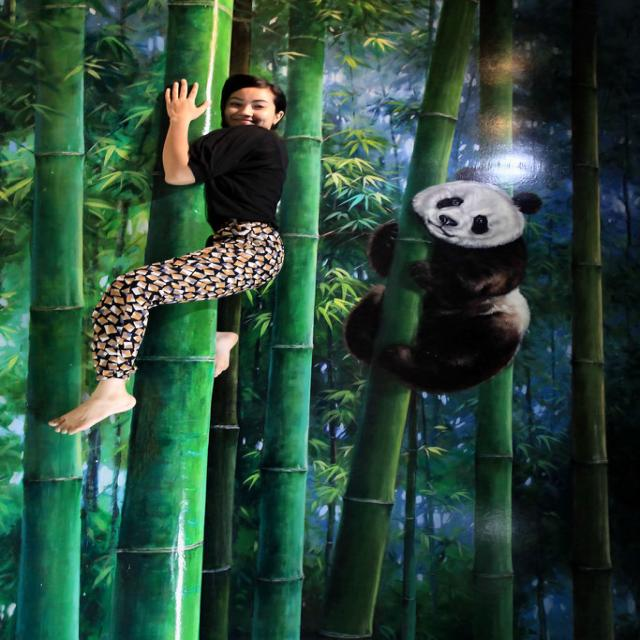panda: (349, 164, 539, 396)
